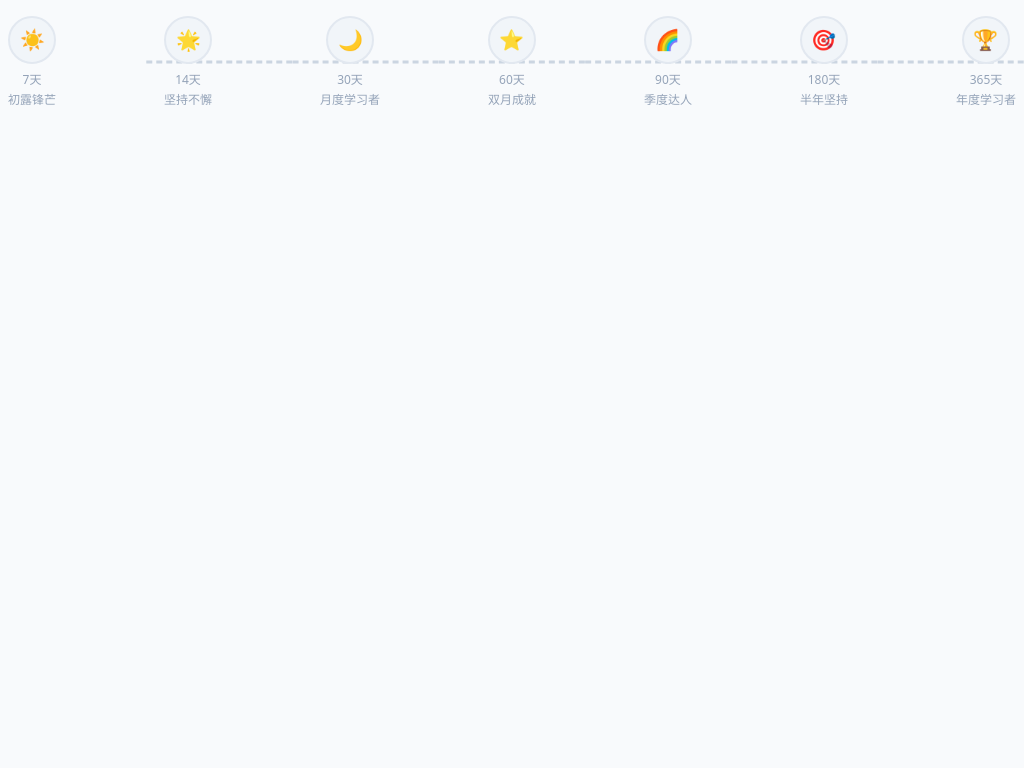
Test: MilestonePath › Detail Popup › opens detail popup on node click
The image size is (1024, 768).
Click on a milestone node
Click the button with test id "milestone-node-7-days". click: (32, 40)
box: [8, 16, 56, 64]
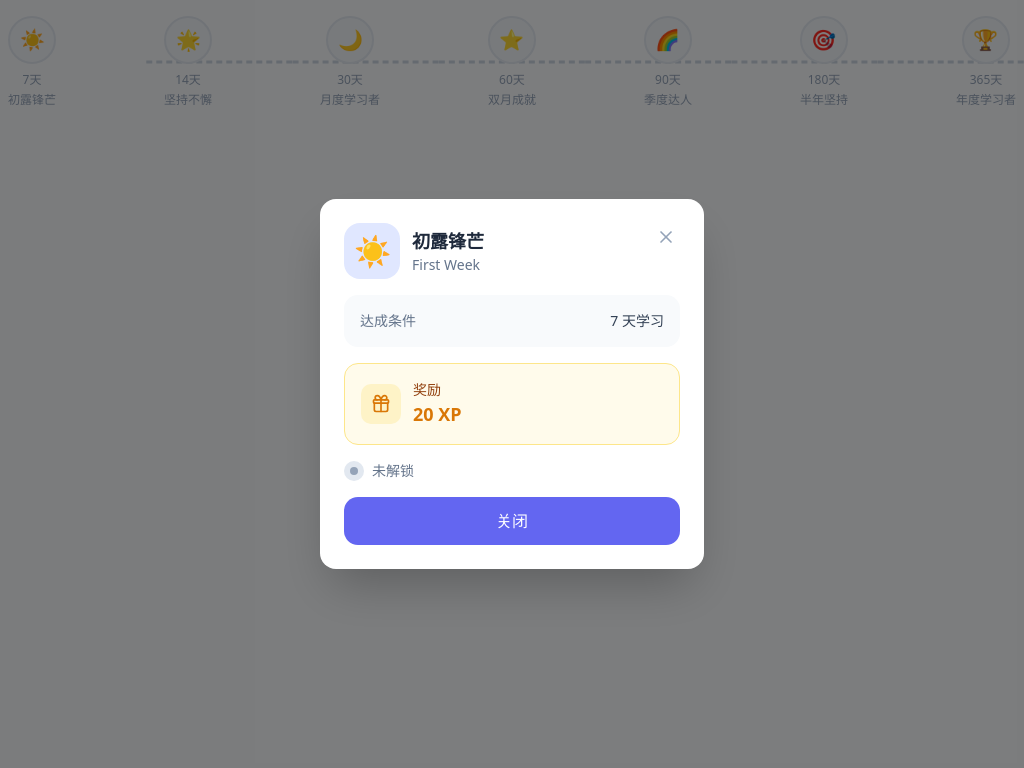
Expected: the element with test id "milestone-popup" is shown, [320, 199, 704, 569]
Expected: the element with test id "milestone-popup-overlay" is shown
